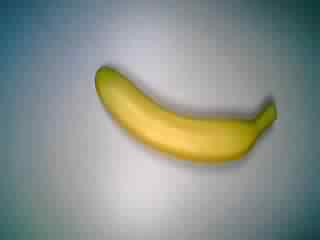banana: (90, 61, 282, 171)
